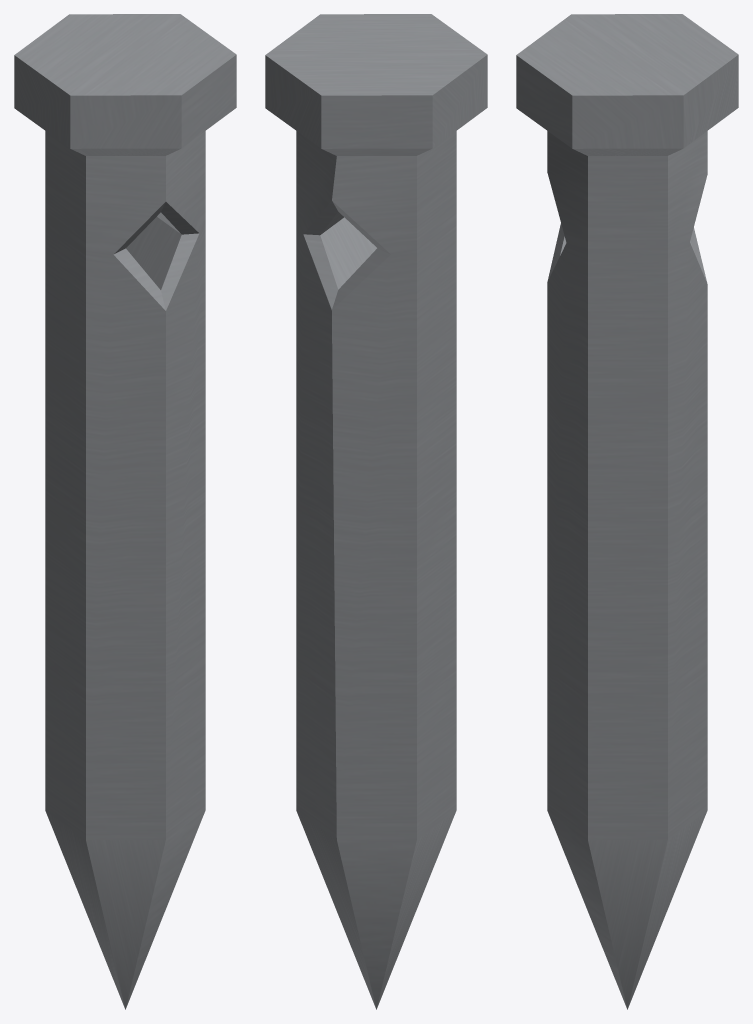
File: peg.fbx
3 views of the same model, side by side, from view 1: azimuth 30°, elevation 25°; view 2: azimuth 150°, elevation 25°; view 3: azimuth 270°, elevation 25° (orthographic).
Visible parts, largest first — view 1: peg; view 2: peg; view 3: peg.
Boxes of the visible parts, x1,y1,x2,y2 form: peg: (14, 14, 236, 1009); peg: (265, 14, 487, 1009); peg: (516, 14, 738, 1009).
Size of the model in its own units: 3.52 by 19.18 by 4.05.
